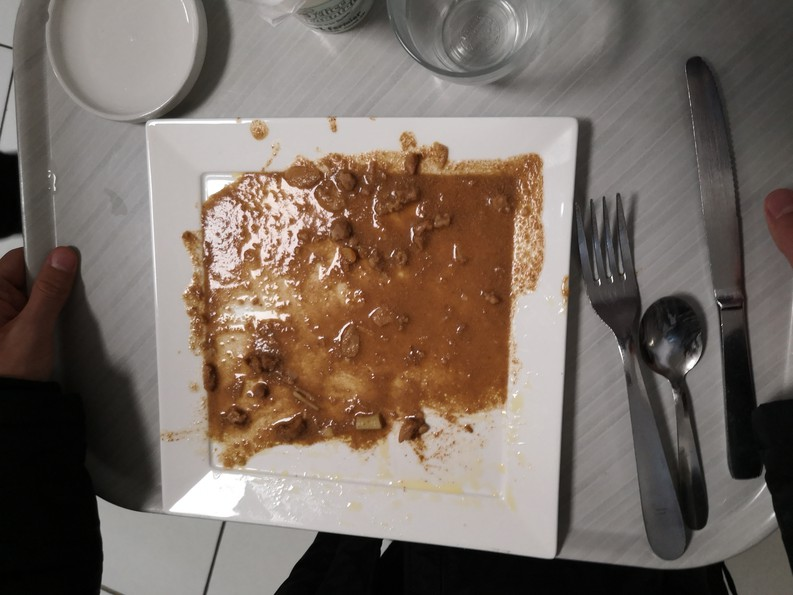cup: (406, 1, 532, 94)
cutlery: (584, 42, 776, 560)
orga: (283, 160, 501, 298), (237, 331, 433, 445)
trash: (261, 1, 389, 46)
